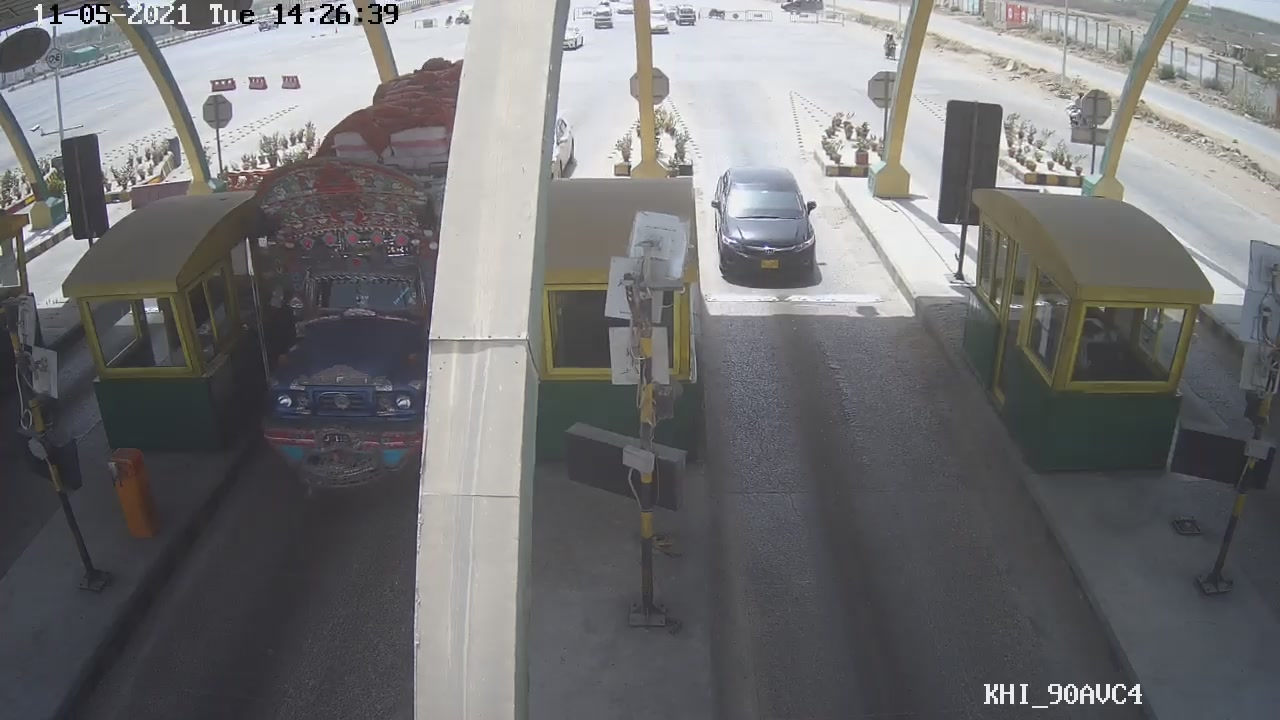F1: (703, 157, 841, 293)
